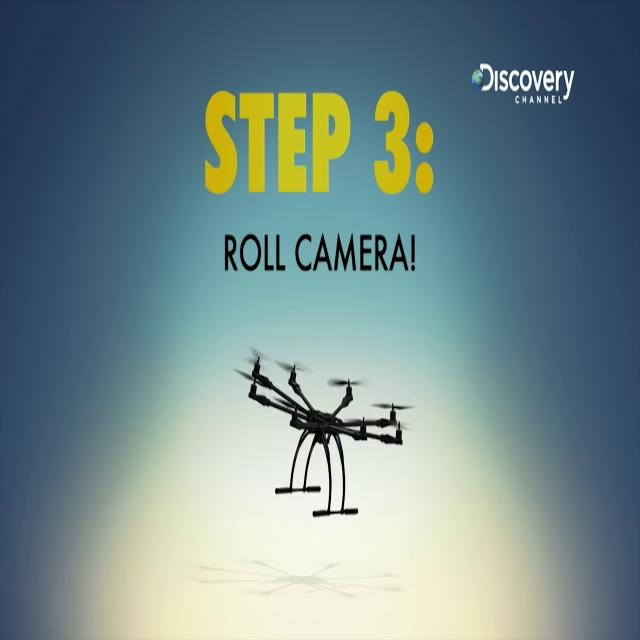drone: (230, 324, 410, 545)
